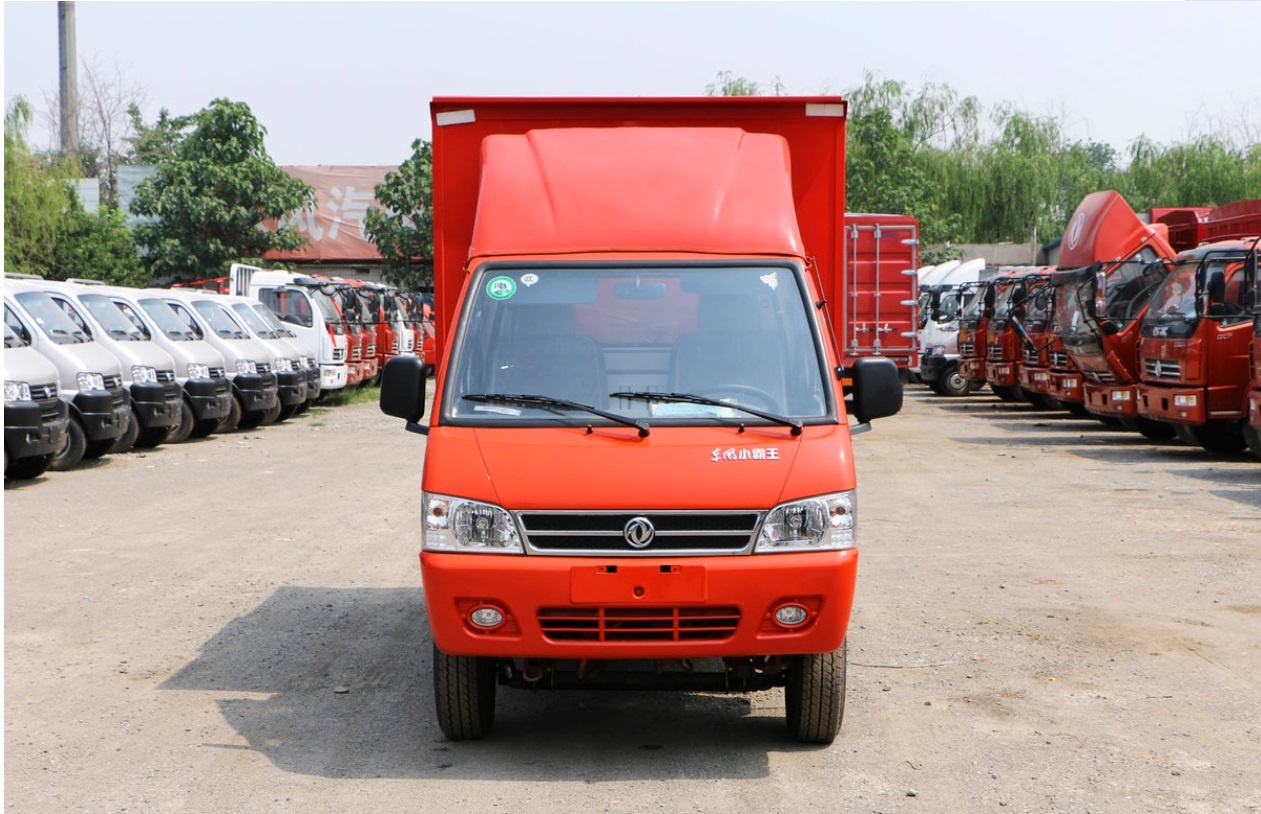truck: (353, 79, 921, 750)
